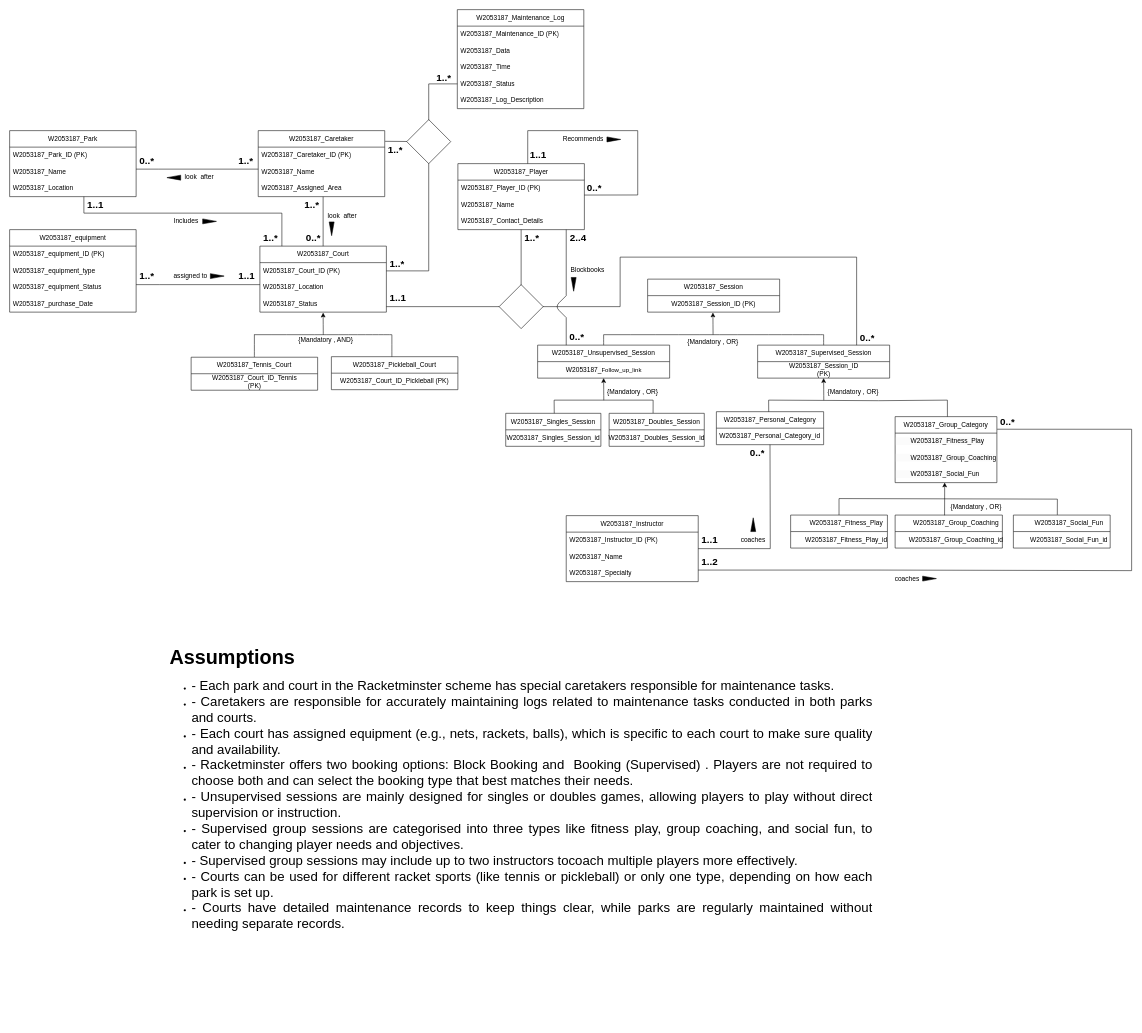
The diagram is 1142 pixels wide and 1033 high, and some of its shapes have lost their labels. The centre of each missing label's shape, as x and y in pixels:
"Books" belongs at pixel 521 306.
"Recordes" belongs at pixel 428 141.
